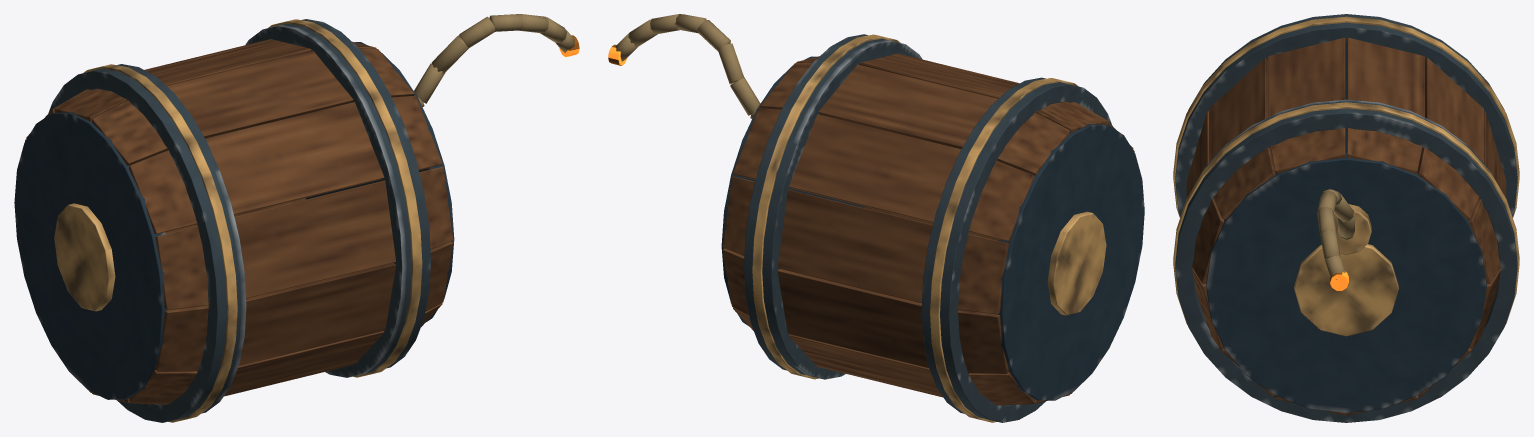
File: powder_barrel.glb
3 renders of one model, left to right at view 1: azimuth 30°, elevation 25°; view 2: azimuth 150°, elevation 25°; view 3: azimuth 270°, elevation 25°, orthographic. The views are drawn at different scales.
Visible parts, largest first — view 1: v4_powder_barrel__end_cap_0, v4_powder_barrel__stave_02, v4_powder_barrel__stave_01, v4_powder_barrel__stave_03, v4_powder_barrel__stave_00, v4_powder_barrel__rolling_hoop_0, v4_powder_barrel__rolling_hoop_1, v4_powder_barrel__stave_04, v4_powder_barrel__end_emblem_0, v4_powder_barrel__stave_11, v4_powder_barrel__brass_hoop_trim_1, v4_powder_barrel__brass_hoop_trim_0 (+4 smaller); view 2: v4_powder_barrel__end_cap_0, v4_powder_barrel__stave_09, v4_powder_barrel__stave_10, v4_powder_barrel__stave_08, v4_powder_barrel__stave_11, v4_powder_barrel__rolling_hoop_0, v4_powder_barrel__rolling_hoop_1, v4_powder_barrel__stave_07, v4_powder_barrel__end_emblem_0, v4_powder_barrel__stave_00, v4_powder_barrel__brass_hoop_trim_0, v4_powder_barrel__brass_hoop_trim_1 (+4 smaller); view 3: v4_powder_barrel__end_cap_1, v4_powder_barrel__rolling_hoop_1, v4_powder_barrel__rolling_hoop_0, v4_powder_barrel__stave_00, v4_powder_barrel__stave_11, v4_powder_barrel__end_emblem_1, v4_powder_barrel__stave_01, v4_powder_barrel__stave_10, v4_powder_barrel__brass_hoop_trim_1, v4_powder_barrel__brass_hoop_trim_0, v4_powder_barrel__stave_02, v4_powder_barrel__stave_09 (+5 smaller).
Part boxes in pixels (left/top/right/bottom): v4_powder_barrel__end_cap_0: left=14, top=112, right=167, bottom=399; v4_powder_barrel__stave_02: left=155, top=166, right=453, bottom=309; v4_powder_barrel__stave_01: left=129, top=95, right=442, bottom=234; v4_powder_barrel__stave_03: left=155, top=241, right=453, bottom=371; v4_powder_barrel__stave_00: left=92, top=48, right=414, bottom=165; v4_powder_barrel__rolling_hoop_0: left=48, top=64, right=246, bottom=422; v4_powder_barrel__rolling_hoop_1: left=245, top=19, right=430, bottom=377; v4_powder_barrel__stave_04: left=129, top=303, right=442, bottom=404; v4_powder_barrel__end_emblem_0: left=54, top=203, right=115, bottom=311; v4_powder_barrel__stave_11: left=54, top=39, right=376, bottom=121; v4_powder_barrel__brass_hoop_trim_1: left=268, top=19, right=422, bottom=377; v4_powder_barrel__brass_hoop_trim_0: left=83, top=64, right=237, bottom=422; v4_powder_barrel__end_cap_0: left=997, top=124, right=1144, bottom=400; v4_powder_barrel__stave_09: left=722, top=176, right=1008, bottom=314; v4_powder_barrel__stave_10: left=733, top=108, right=1034, bottom=241; v4_powder_barrel__stave_08: left=722, top=248, right=1008, bottom=373; v4_powder_barrel__stave_11: left=760, top=62, right=1069, bottom=175; v4_powder_barrel__rolling_hoop_0: left=921, top=77, right=1111, bottom=422; v4_powder_barrel__rolling_hoop_1: left=744, top=34, right=922, bottom=379; v4_powder_barrel__stave_07: left=733, top=307, right=1034, bottom=404; v4_powder_barrel__end_emblem_0: left=1047, top=211, right=1106, bottom=315; v4_powder_barrel__stave_00: left=796, top=53, right=1106, bottom=132; v4_powder_barrel__brass_hoop_trim_0: left=930, top=78, right=1078, bottom=422; v4_powder_barrel__brass_hoop_trim_1: left=752, top=34, right=900, bottom=379; v4_powder_barrel__end_cap_1: left=1206, top=153, right=1486, bottom=413; v4_powder_barrel__rolling_hoop_1: left=1175, top=99, right=1517, bottom=422; v4_powder_barrel__rolling_hoop_0: left=1175, top=14, right=1517, bottom=216; v4_powder_barrel__stave_00: left=1268, top=37, right=1345, bottom=173; v4_powder_barrel__stave_11: left=1347, top=37, right=1424, bottom=173; v4_powder_barrel__end_emblem_1: left=1294, top=244, right=1398, bottom=336; v4_powder_barrel__stave_01: left=1209, top=58, right=1275, bottom=219; v4_powder_barrel__stave_10: left=1417, top=58, right=1483, bottom=219; v4_powder_barrel__brass_hoop_trim_1: left=1173, top=102, right=1519, bottom=324; v4_powder_barrel__brass_hoop_trim_0: left=1173, top=16, right=1519, bottom=217; v4_powder_barrel__stave_02: left=1186, top=111, right=1224, bottom=283; v4_powder_barrel__stave_09: left=1468, top=111, right=1506, bottom=283.
Bounding box in the file's own units: 0.7698 × 0.496 × 0.496.
Materials: 2 (2 with a texture image).
